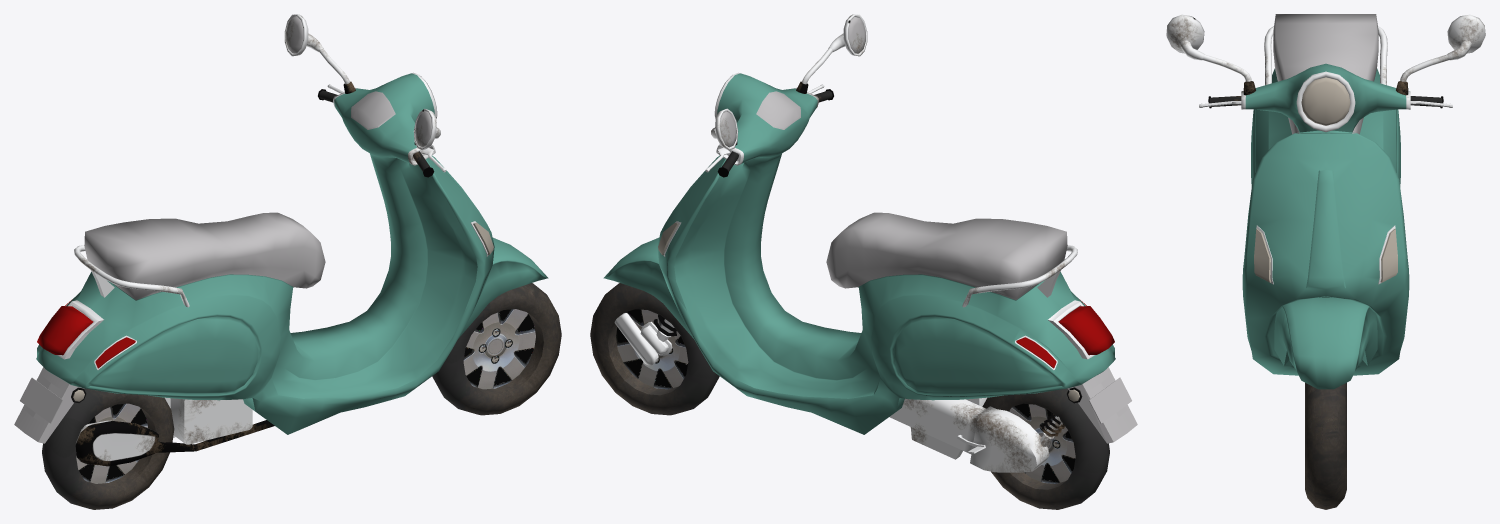
The model's file is vehicle_scooter_vespa.glb.
3 renders of one model, left to right at view 1: azimuth 30°, elevation 25°; view 2: azimuth 150°, elevation 25°; view 3: azimuth 270°, elevation 25°, orthographic. The views are drawn at different scales.
Visible parts, largest first — view 1: body, handlebar, wheel_f, wheel_r; view 2: body, handlebar, wheel_f, wheel_r; view 3: body, handlebar, wheel_f.
Boxes of the visible parts, x1,y1,x2,y2 form: body: [14, 155, 494, 466]; handlebar: [284, 14, 548, 338]; wheel_f: [432, 283, 561, 415]; wheel_r: [42, 388, 174, 509]; body: [614, 155, 1137, 472]; handlebar: [603, 14, 867, 338]; wheel_f: [590, 283, 719, 415]; wheel_r: [982, 388, 1109, 509]; body: [1242, 14, 1409, 375]; handlebar: [1166, 14, 1485, 389]; wheel_f: [1305, 383, 1346, 509].
Bounding box in the file's own units: 1.8 × 1.24 × 0.8557.
6 materials, 5 textured.
